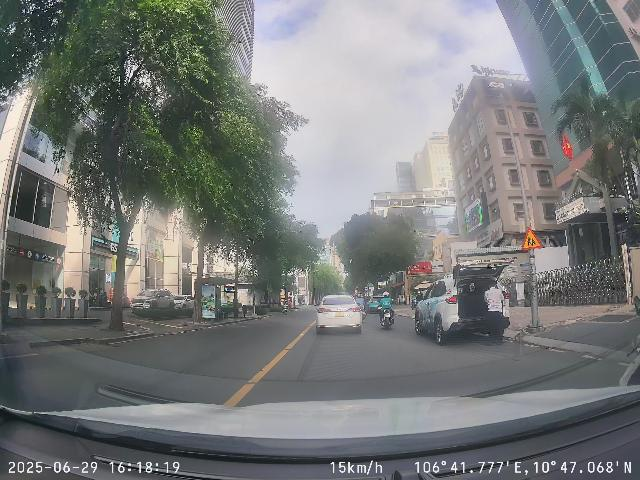225-chu-y-tre-em: (520, 226, 543, 252)
